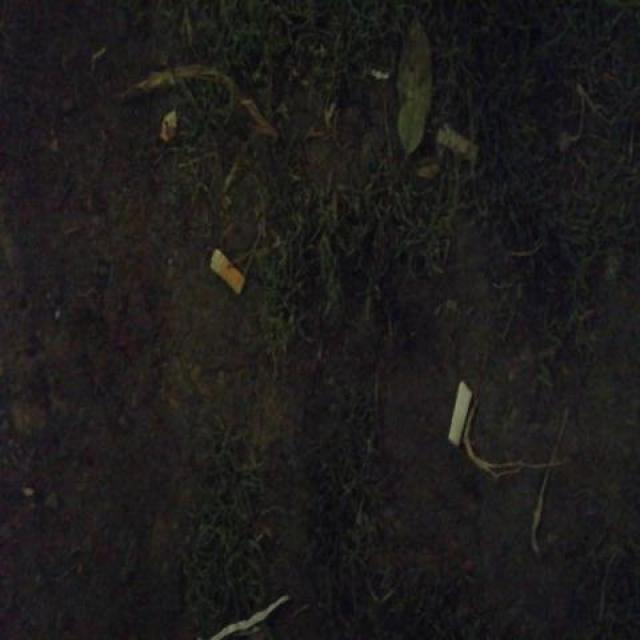non-organic waste: (432, 120, 484, 175), (443, 374, 477, 449), (204, 246, 249, 302)
